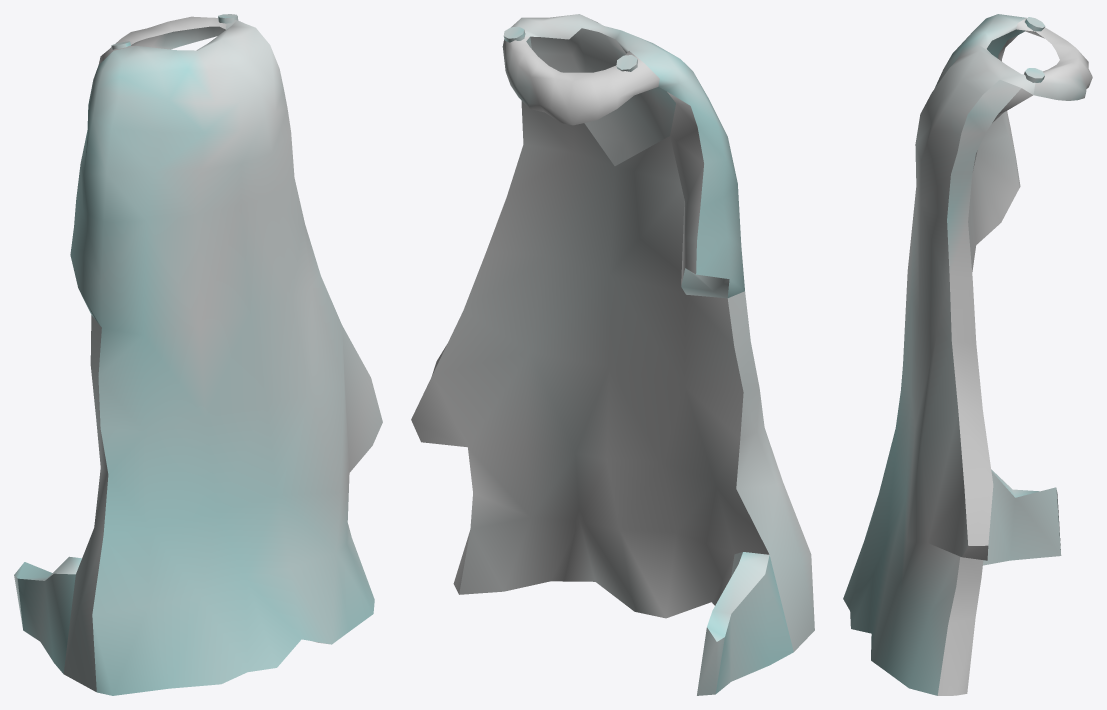
File: tower_top_2_uv.fbx
3 views of the same model, side by side, from view 1: azimuth 30°, elevation 25°; view 2: azimuth 150°, elevation 25°; view 3: azimuth 270°, elevation 25° (orthographic). The views are drawn at different scales.
Visible parts, largest first — view 1: tower_top_2; view 2: tower_top_2; view 3: tower_top_2.
Part boxes in pixels (bbox=[...]): tower_top_2: bbox=[14, 14, 382, 695]; tower_top_2: bbox=[411, 14, 814, 695]; tower_top_2: bbox=[843, 14, 1092, 695].
Bounding box in the file's own units: 117 × 193 × 74.7.
